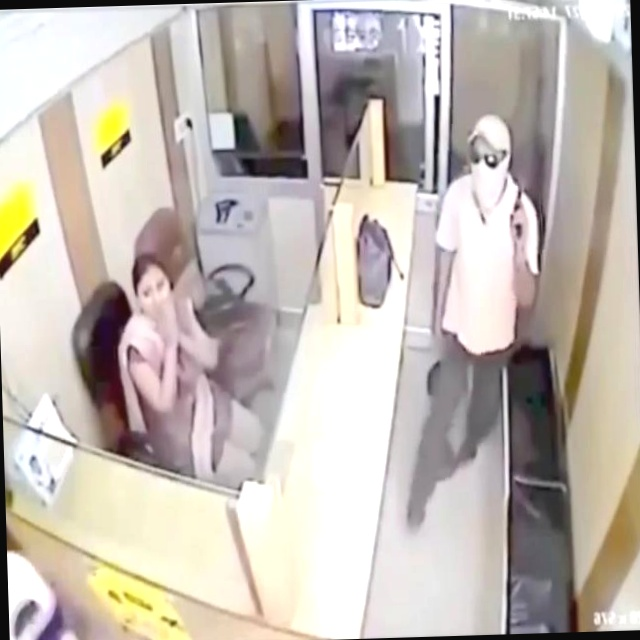gun: (508, 179, 527, 238)
